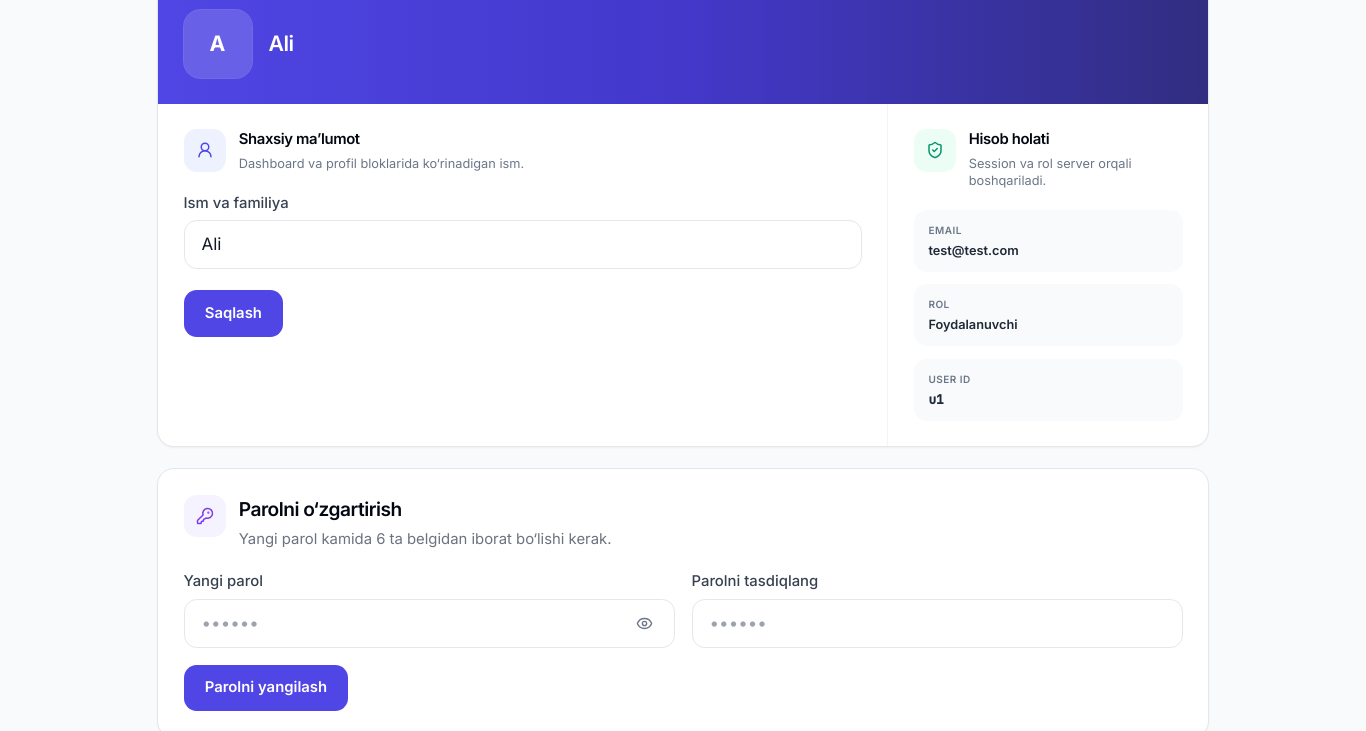
it: Profile sahifasi › parollar mos kelmasa validatsiya xatosi: updatePassword chaqirilmaydi
(page scrolled)
In the password field labelled "Yangi parol": (429, 623) [184,599,674,648], type "secret123"
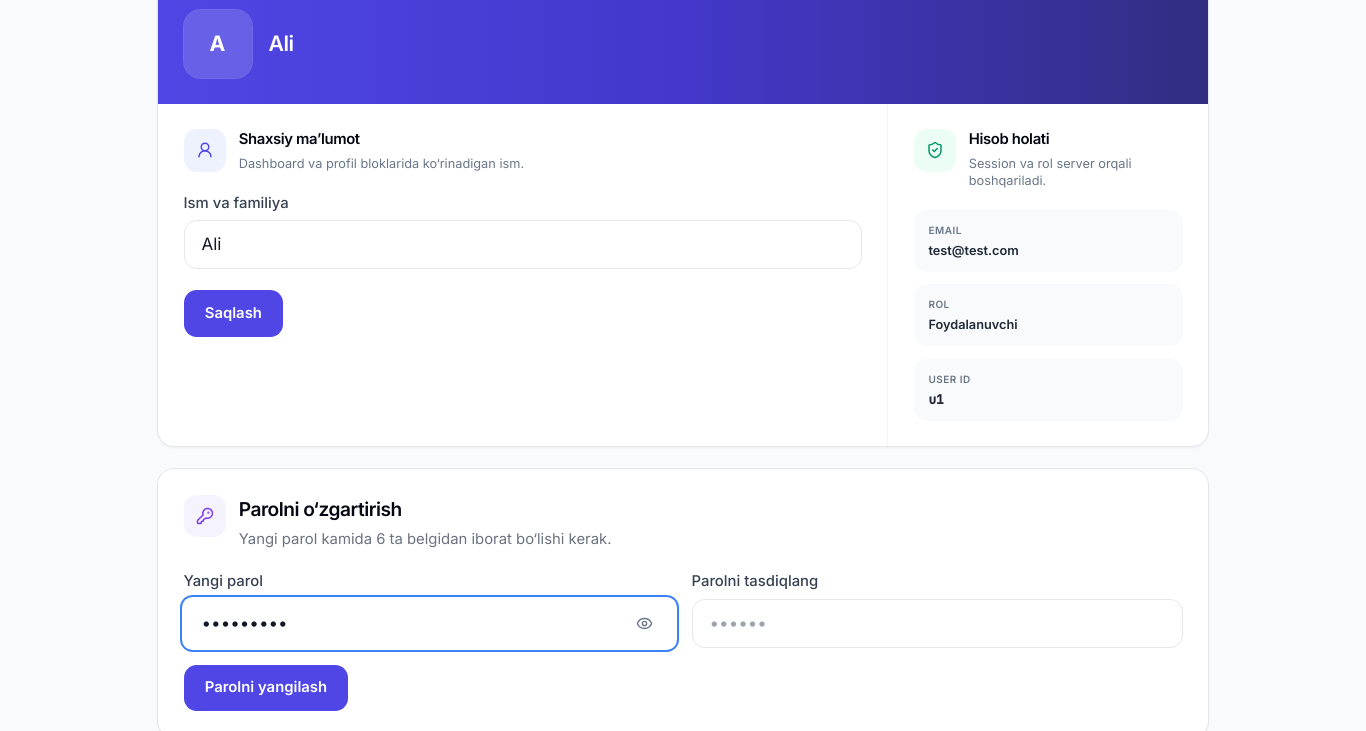
In the password field labelled "Parolni tasdiqlang": (937, 623) [692,599,1182,648], type "different"
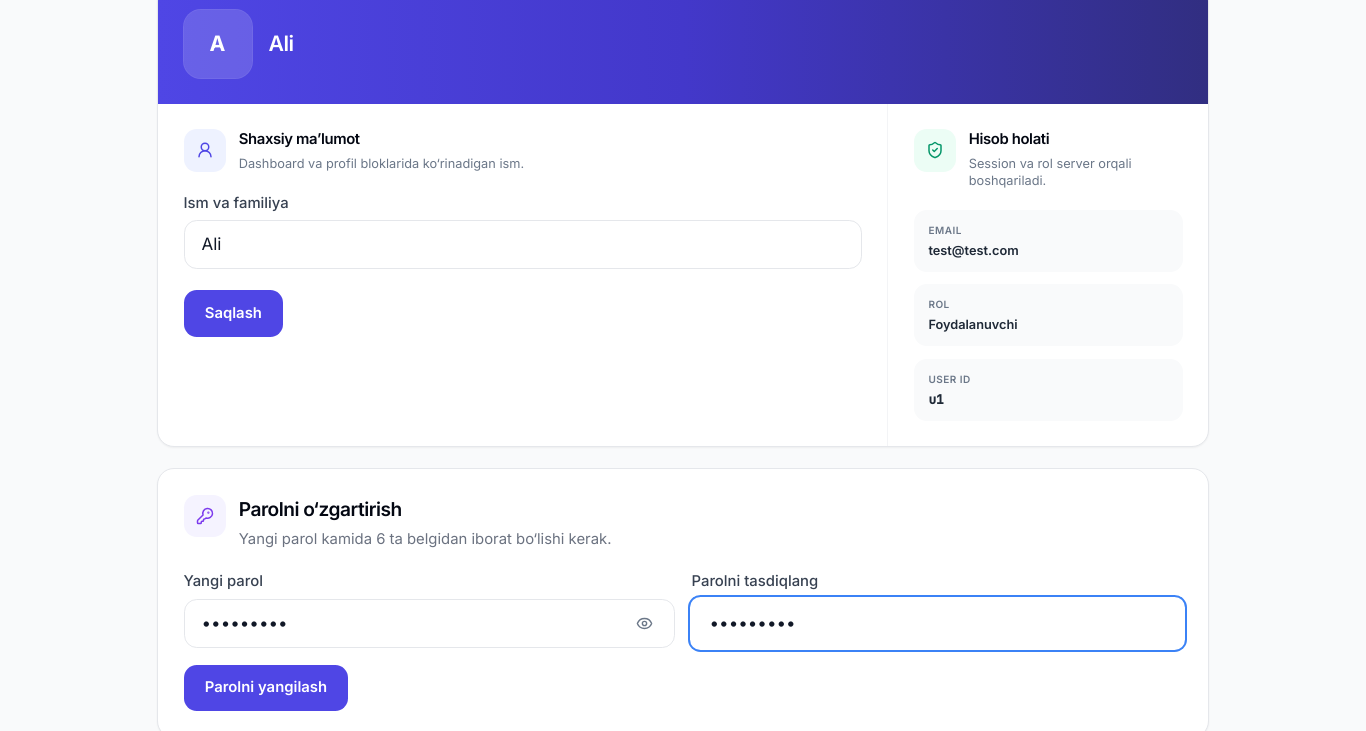
Click the button "Parolni yangilash": (266, 688) [184,665,348,711]
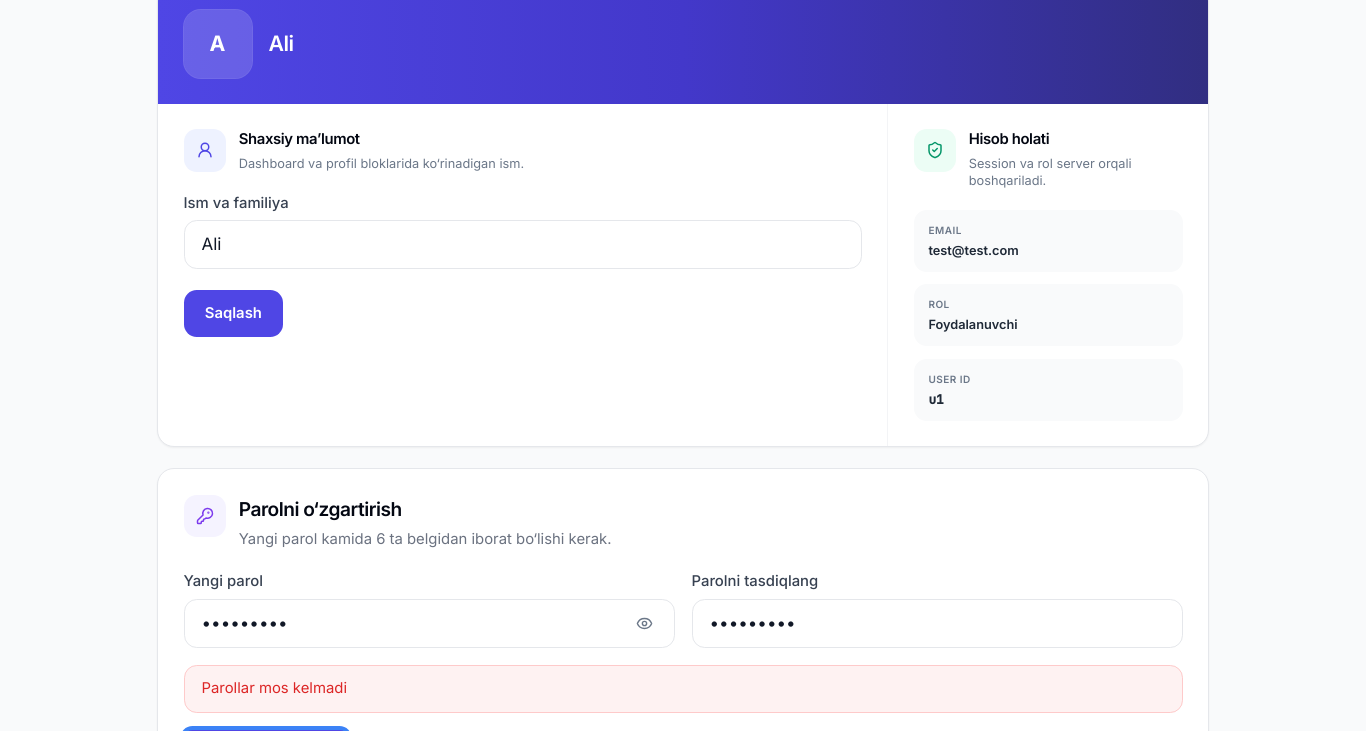
Expected: the text "Parollar mos kelmadi" is shown, [184,665,1182,713]
